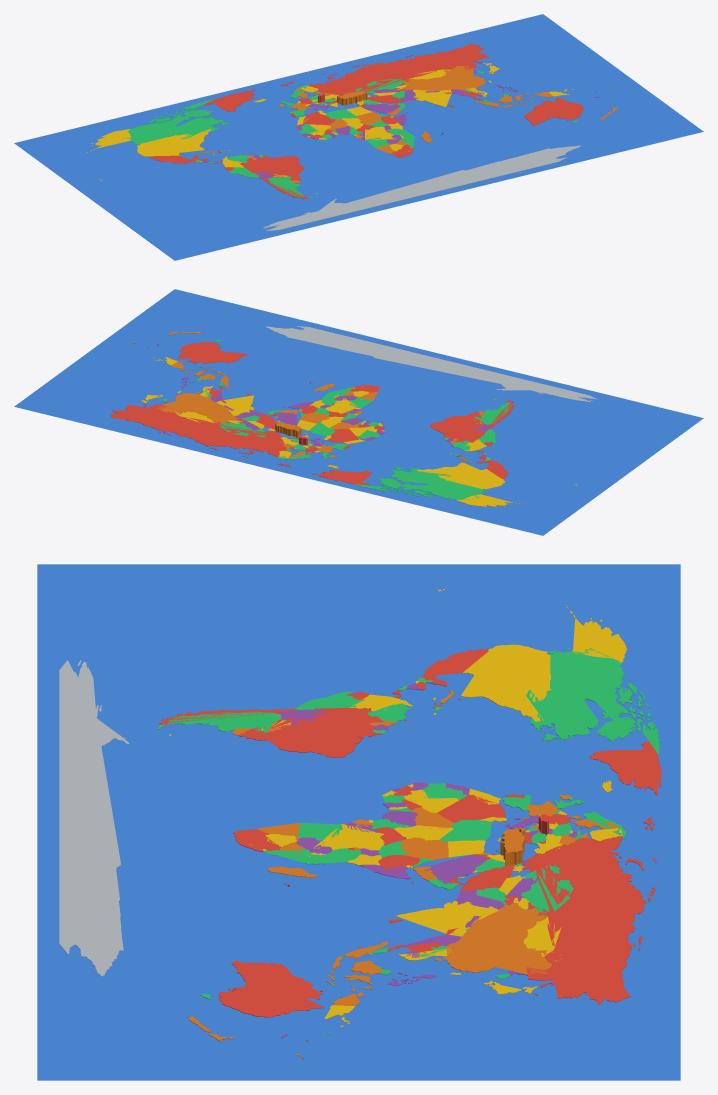
The model's file is map.fbx.
3 views of the same model, one above another, from view 1: azimuth 30°, elevation 25°; view 2: azimuth 150°, elevation 25°; view 3: azimuth 270°, elevation 25° (orthographic). The views are drawn at different scales.
Parts seen in each view (by area): view 1: Plane.001, map.001; view 2: Plane.001, map.001; view 3: Plane.001, map.001.
Part boxes in pixels (<box>): Plane.001: <box>14,14,703,260</box>; map.001: <box>85,44,618,231</box>; Plane.001: <box>14,289,703,535</box>; map.001: <box>110,326,597,507</box>; Plane.001: <box>37,564,680,1080</box>; map.001: <box>59,587,661,1058</box>.
Bounding box in the file's own units: 994 × 13.33 × 523.
